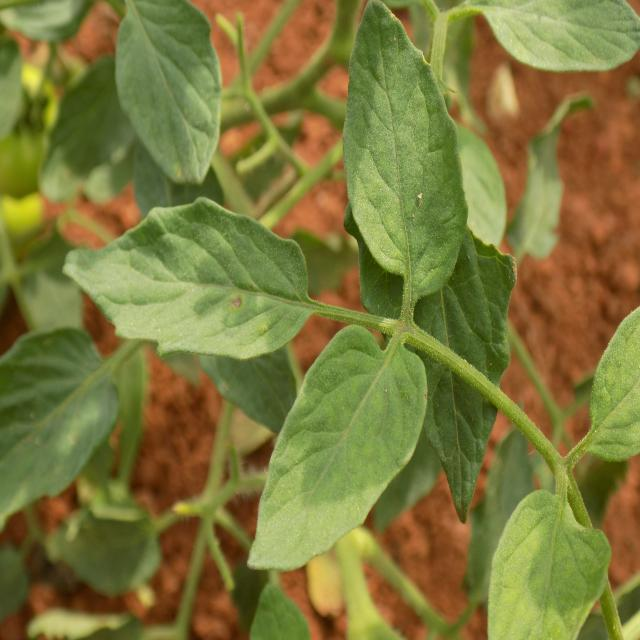tomato_healthy: (247, 330, 428, 576), (58, 191, 316, 361), (344, 0, 465, 296), (114, 0, 219, 187)
